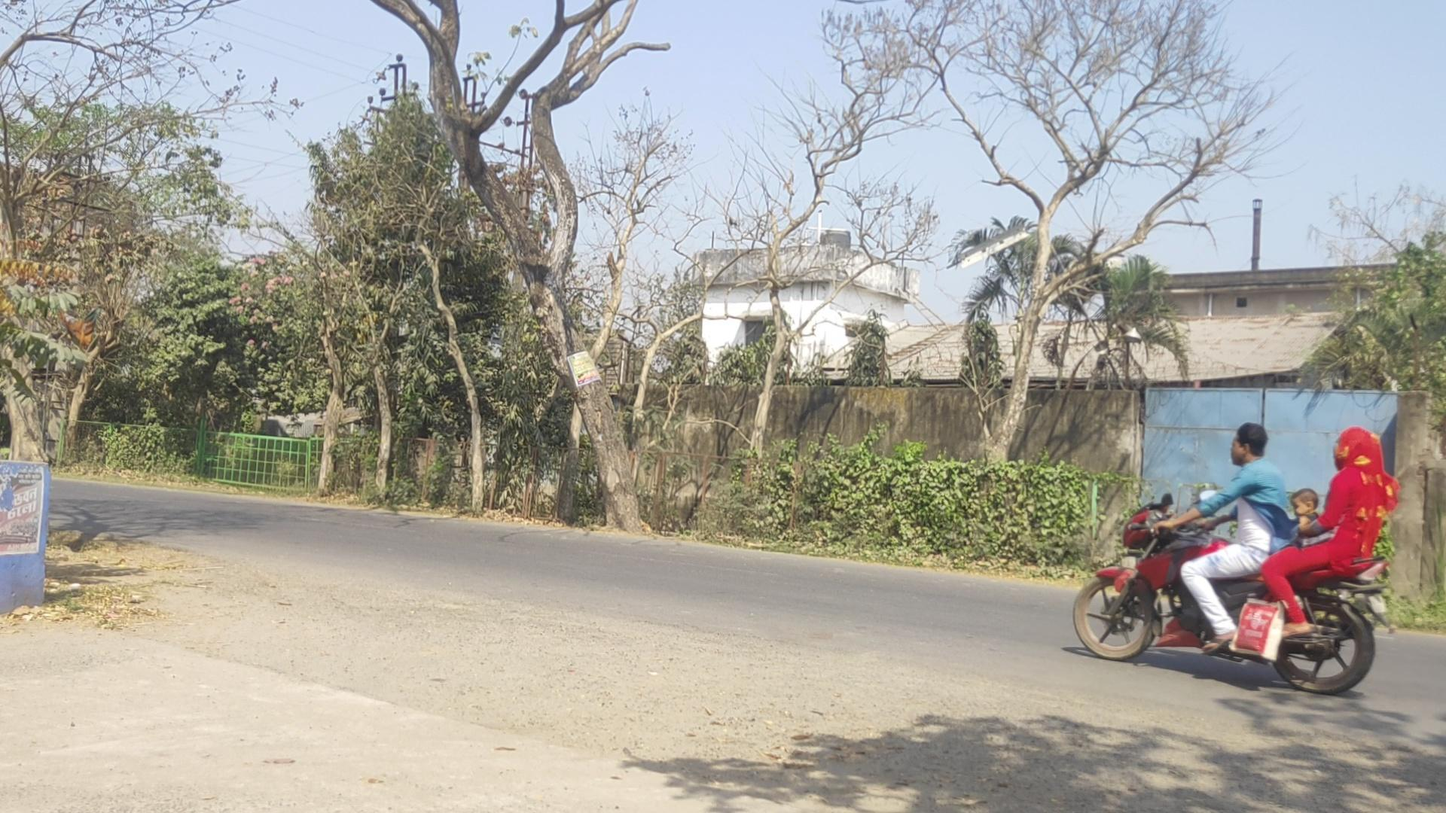bike: (1072, 422, 1398, 696)
